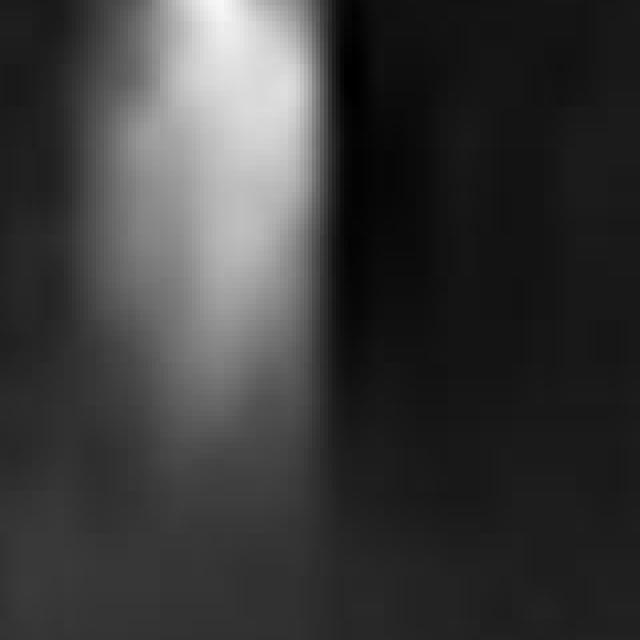person: (69, 1, 333, 497)
